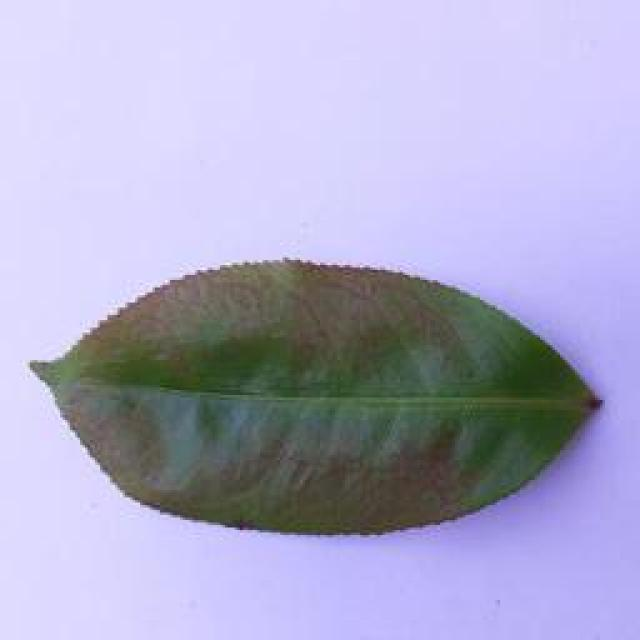Red Leaf Spot: (10, 247, 614, 543)
